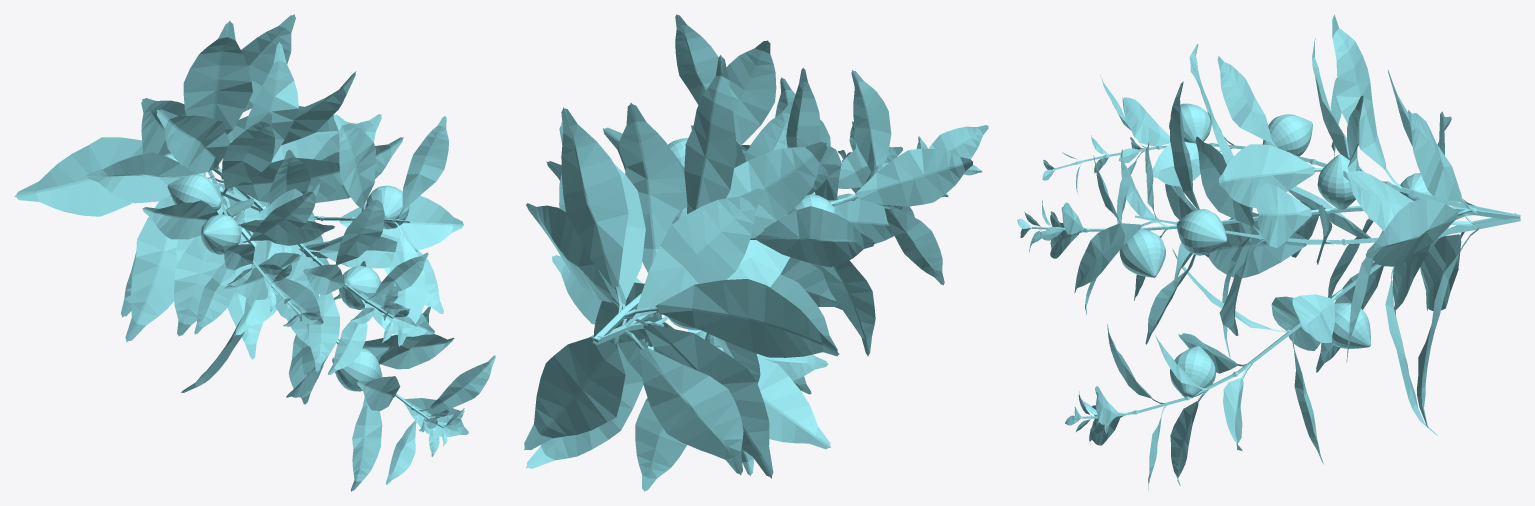
File: package_2.obj
The picture shows the model from 3 angles, left to right: view 1: azimuth 30°, elevation 25°; view 2: azimuth 150°, elevation 25°; view 3: azimuth 270°, elevation 25°; orthographic projection. The views are drawn at different scales.
Parts seen in each view (by area): view 1: package_2_1, package_2_2, package_2_3, package_2_0; view 2: package_2_1, package_2_0, package_2_3, package_2_2; view 3: package_2_1, package_2_2, package_2_3, package_2_0.
Part boxes in pixels (x1,y1,x2,y2): package_2_1: (14,14,495,491); package_2_2: (164,153,382,391); package_2_3: (167,174,409,229); package_2_0: (198,168,444,428); package_2_1: (524,14,988,491); package_2_0: (592,192,856,344); package_2_3: (648,138,837,350); package_2_2: (668,162,901,347); package_2_1: (1017,14,1479,490); package_2_2: (1119,103,1432,398); package_2_3: (1176,114,1370,348); package_2_0: (1032,143,1520,418).
Size of the model in its own units: 0.3417 by 0.403 by 0.4106.
